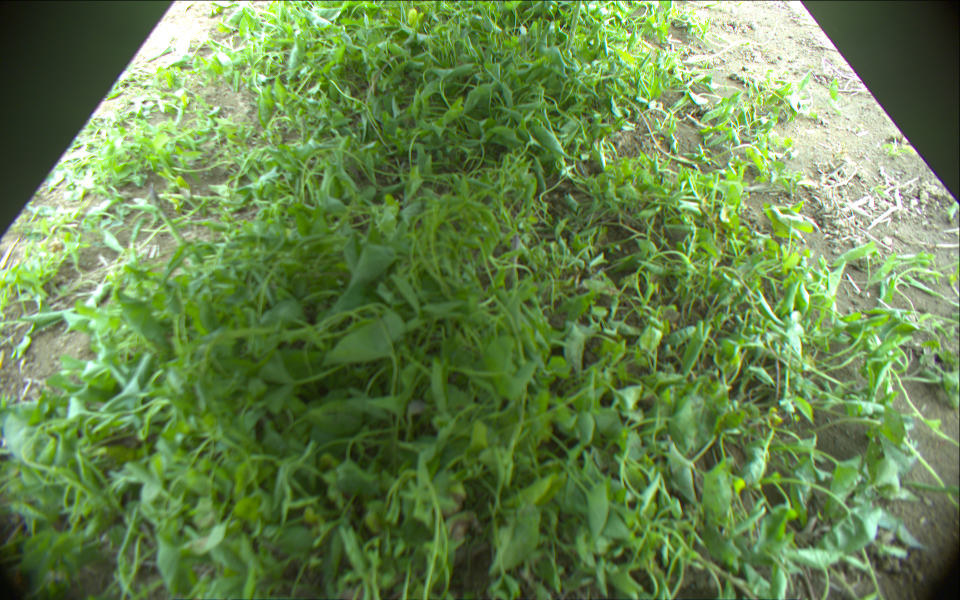aspa: (149, 187, 194, 261), (565, 1, 582, 54), (511, 234, 521, 289)
